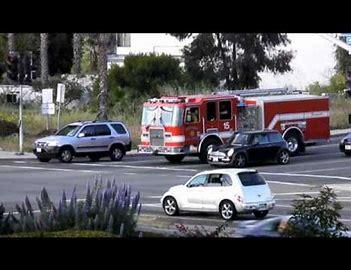Fire-engine: (136, 87, 331, 163)
